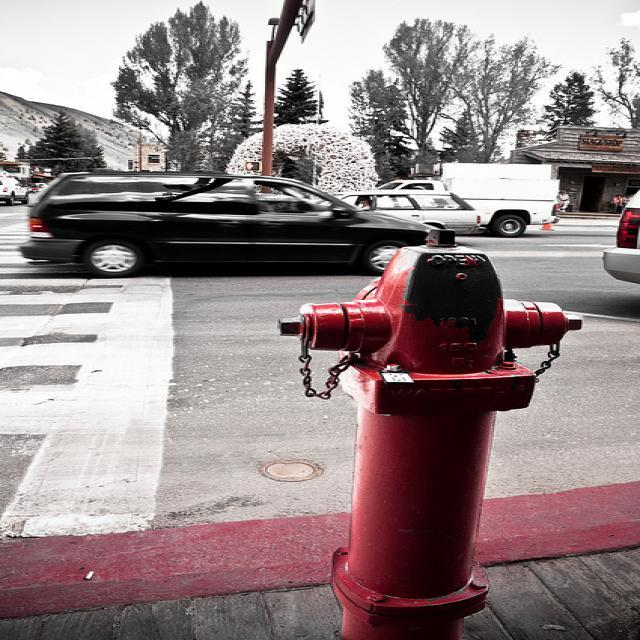fire_hydrant: (271, 224, 594, 630)
